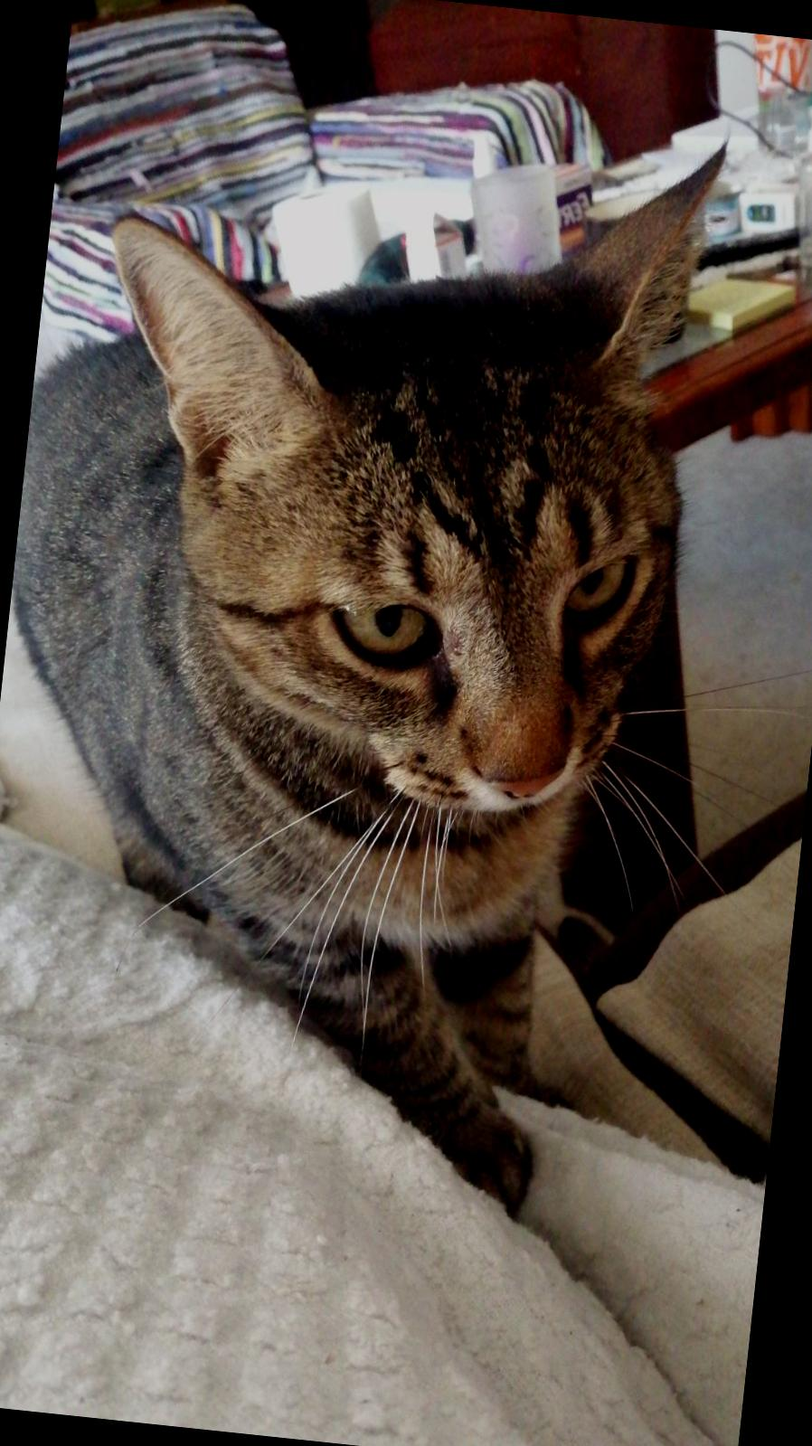macka: (0, 73, 727, 1222)
